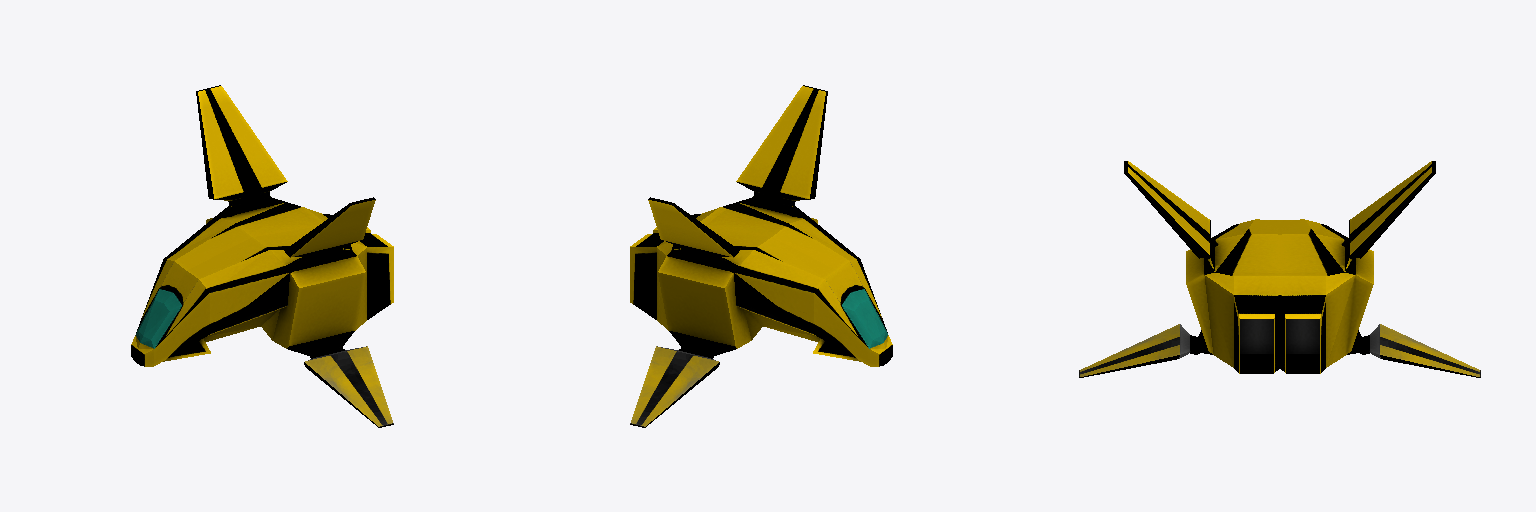
3 views of the same model, side by side, from view 1: azimuth 30°, elevation 25°; view 2: azimuth 150°, elevation 25°; view 3: azimuth 270°, elevation 25° (orthographic).
Visible parts, largest first — view 1: Cube; view 2: Cube; view 3: Cube.
Part boxes in pixels (left/top/right/bottom): Cube: left=131, top=85, right=393, bottom=427; Cube: left=630, top=85, right=892, bottom=427; Cube: left=1079, top=161, right=1480, bottom=377.
Bounding box in the file's own units: 5.91 × 4.99 × 8.71.
1 materials, 1 textured.